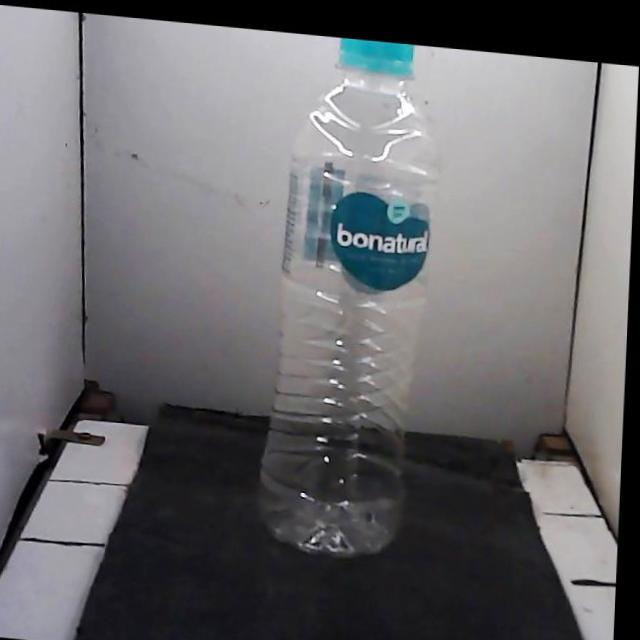plastico: (260, 40, 436, 556)
